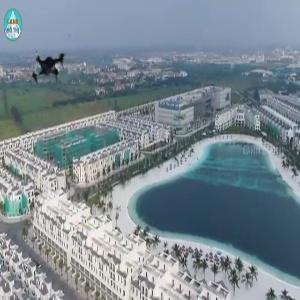drone: (17, 31, 79, 93)
